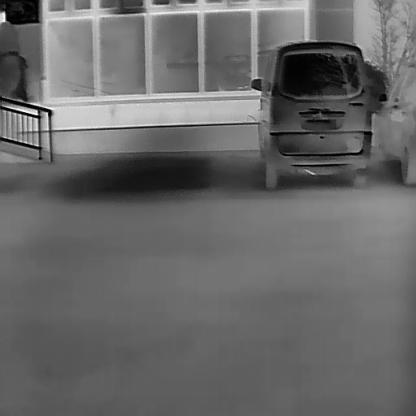car: (249, 38, 384, 187), (371, 25, 415, 186)
